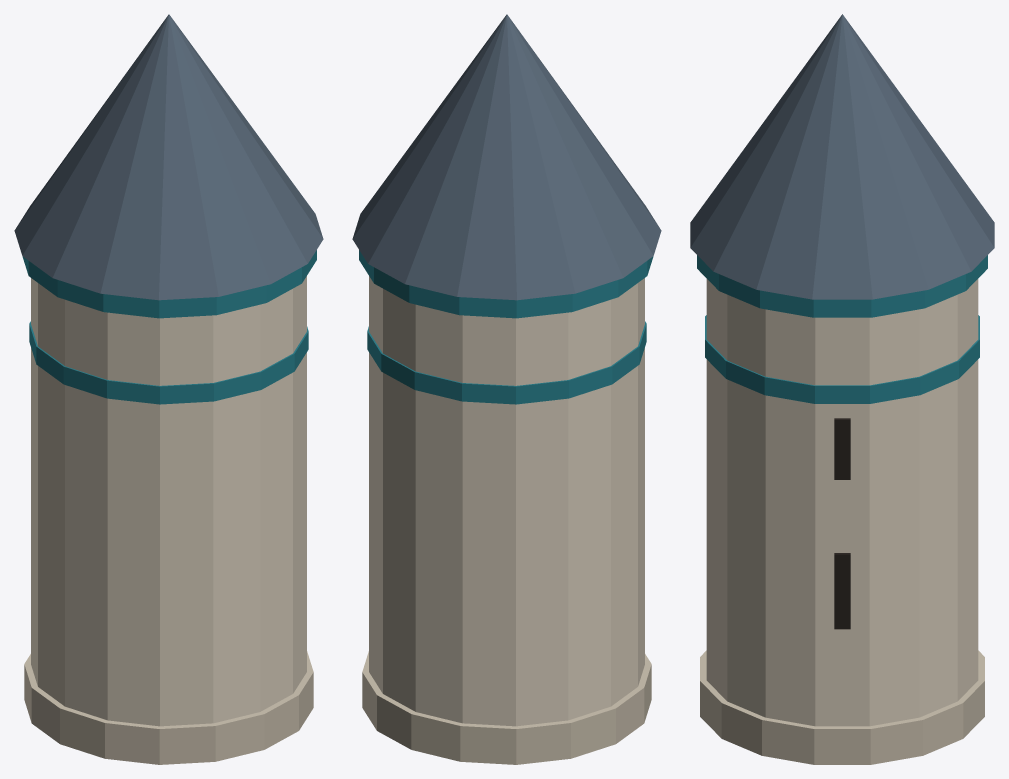
The model's file is tower-round.glb.
The picture shows the model from 3 angles, left to right: view 1: azimuth 30°, elevation 25°; view 2: azimuth 150°, elevation 25°; view 3: azimuth 270°, elevation 25°; orthographic projection.
Parts seen in each view (by area): view 1: tower-round; view 2: tower-round; view 3: tower-round.
Boxes of the visible parts, <box> form: tower-round: <box>14,14,323,764</box>; tower-round: <box>352,14,661,764</box>; tower-round: <box>690,14,994,764</box>.
Size of the model in its own units: 0.9219 by 2.31 by 0.9219.
